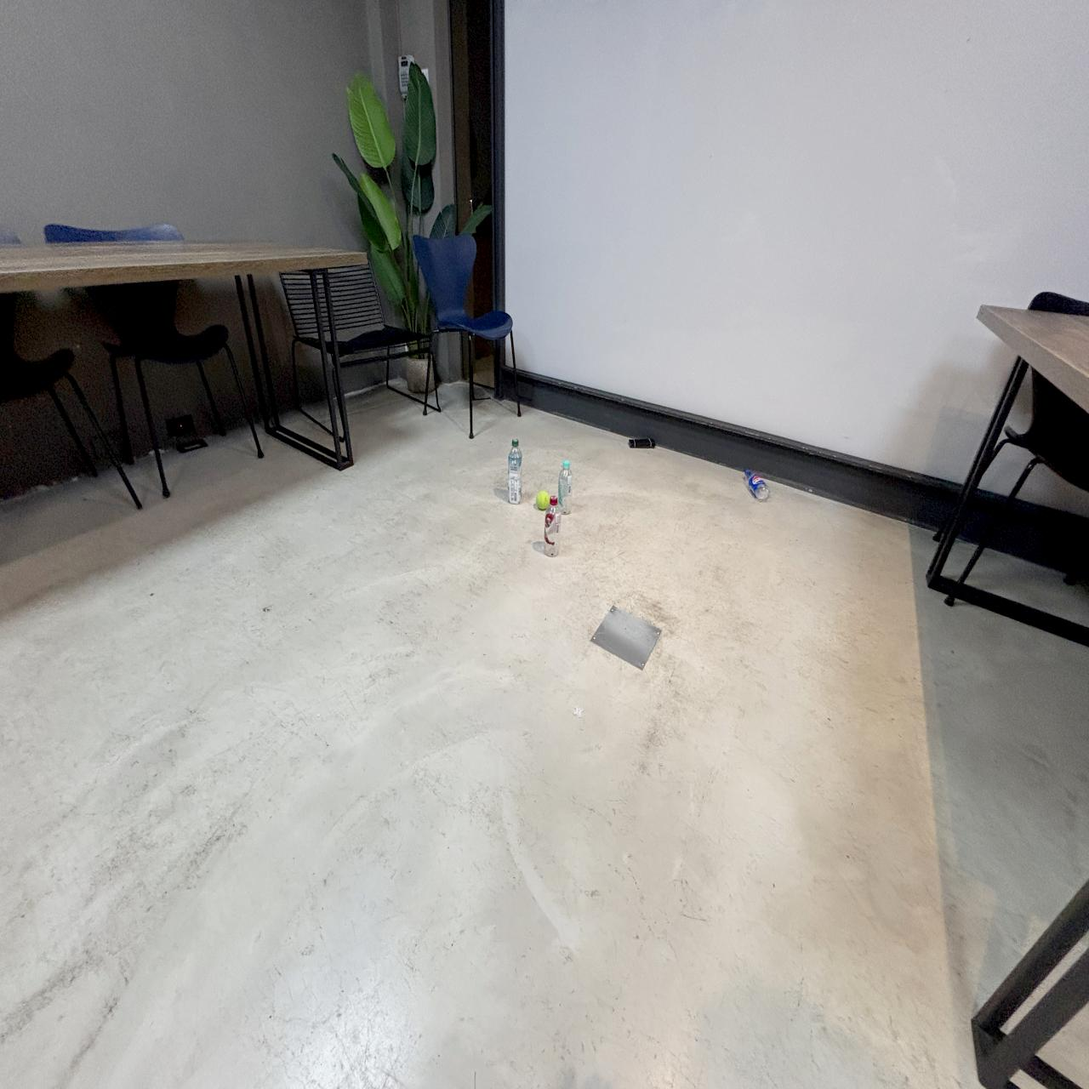plastic-bottle: (544, 496, 561, 556), (509, 439, 522, 505), (558, 459, 573, 514)
tennisball: (536, 490, 550, 511)
